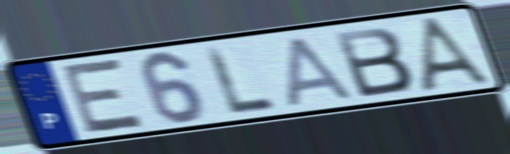6: (137, 48, 207, 127)
A: (417, 14, 501, 93), (285, 34, 358, 109)
B: (330, 25, 416, 100)
E: (60, 55, 149, 136)
L: (201, 43, 280, 117)
